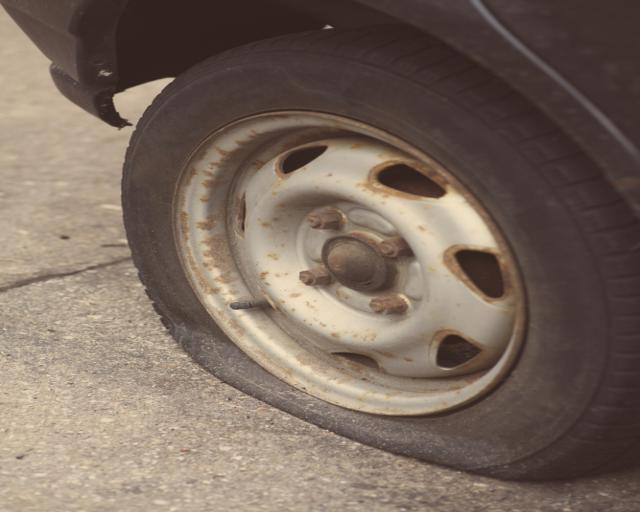tire flat: (123, 21, 640, 483)
